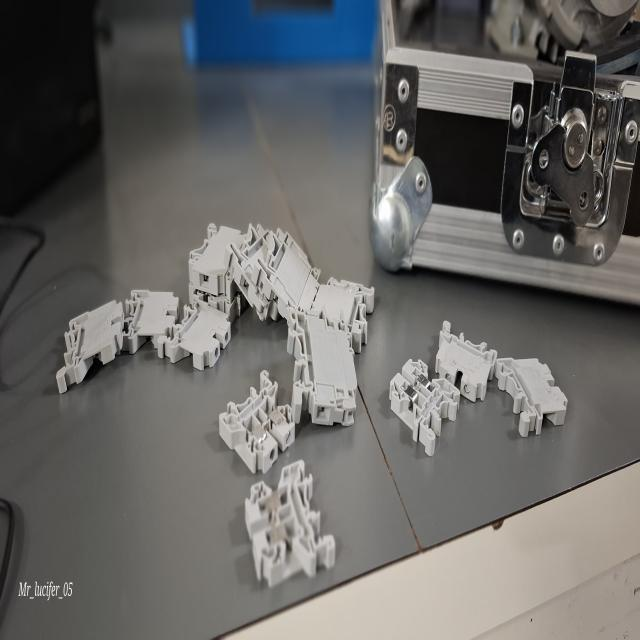Inverted: (494, 338, 570, 460), (51, 296, 126, 400), (153, 293, 234, 379), (434, 314, 499, 406), (120, 278, 178, 352)
Pass: (236, 456, 340, 594), (216, 367, 298, 472), (383, 353, 463, 459)
